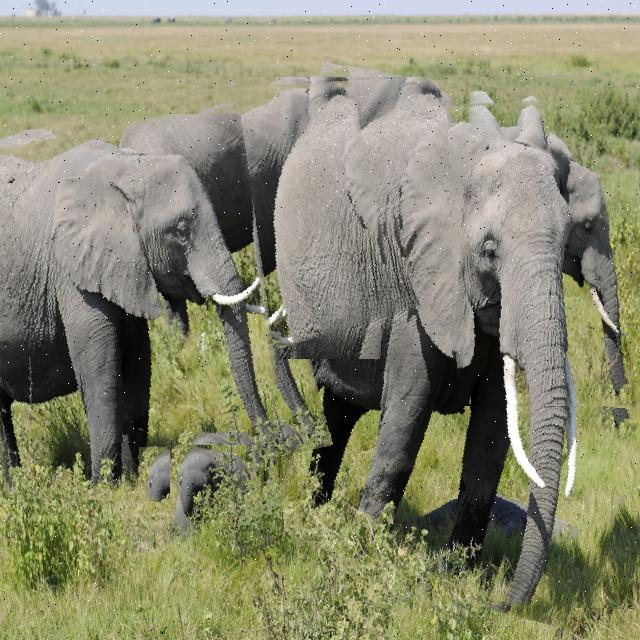elephant: (227, 77, 640, 610), (0, 114, 301, 504), (141, 78, 399, 359), (447, 94, 640, 406), (170, 445, 266, 561)
